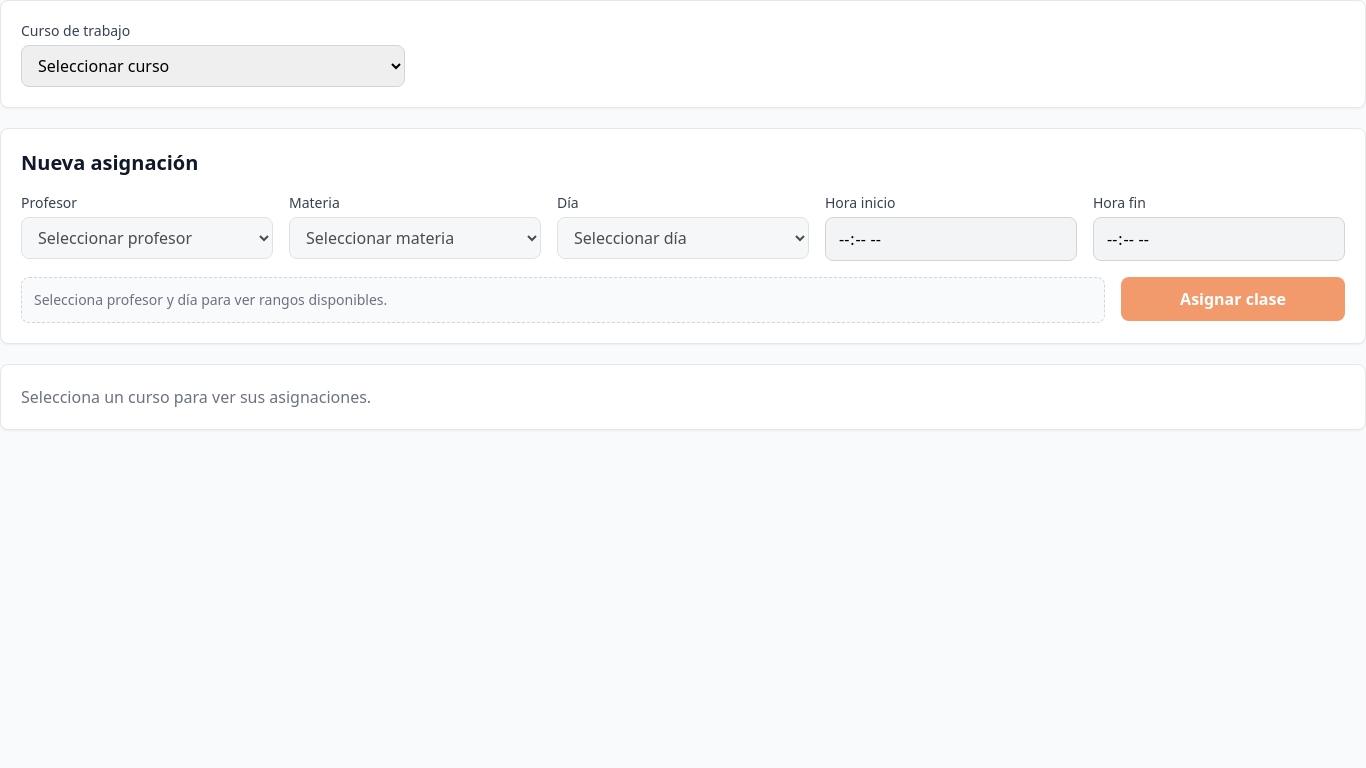
it: flujo de asignaciones académicas › consulta disponibilidad y crea una asignación con el payload actual
The width and height of the screenshot is (1366, 768).
Select "5A (Mañana)" in the dropdown below "Curso de trabajo" at [213, 66], box [21, 45, 405, 87]
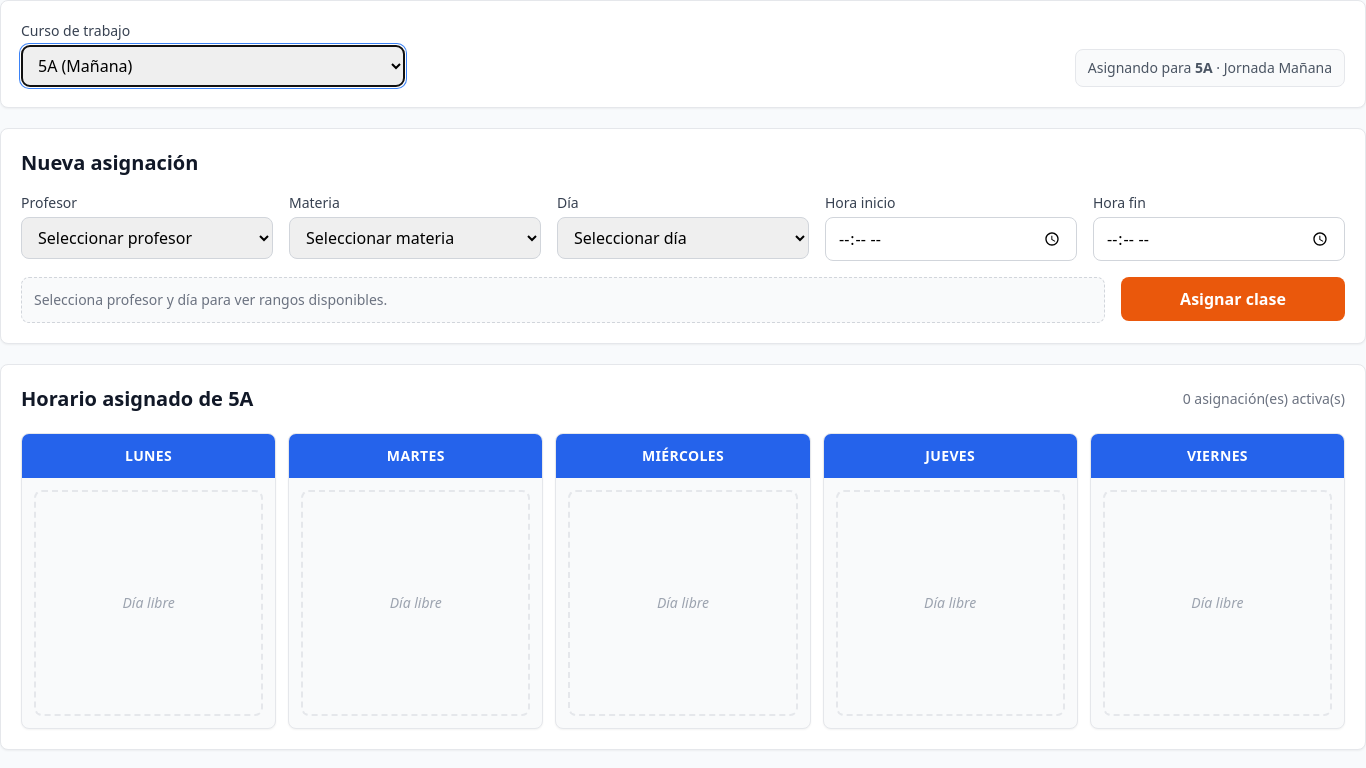
Select "ANA RUIZ" in the 2nd dropdown at [147, 238], box [21, 217, 273, 259]
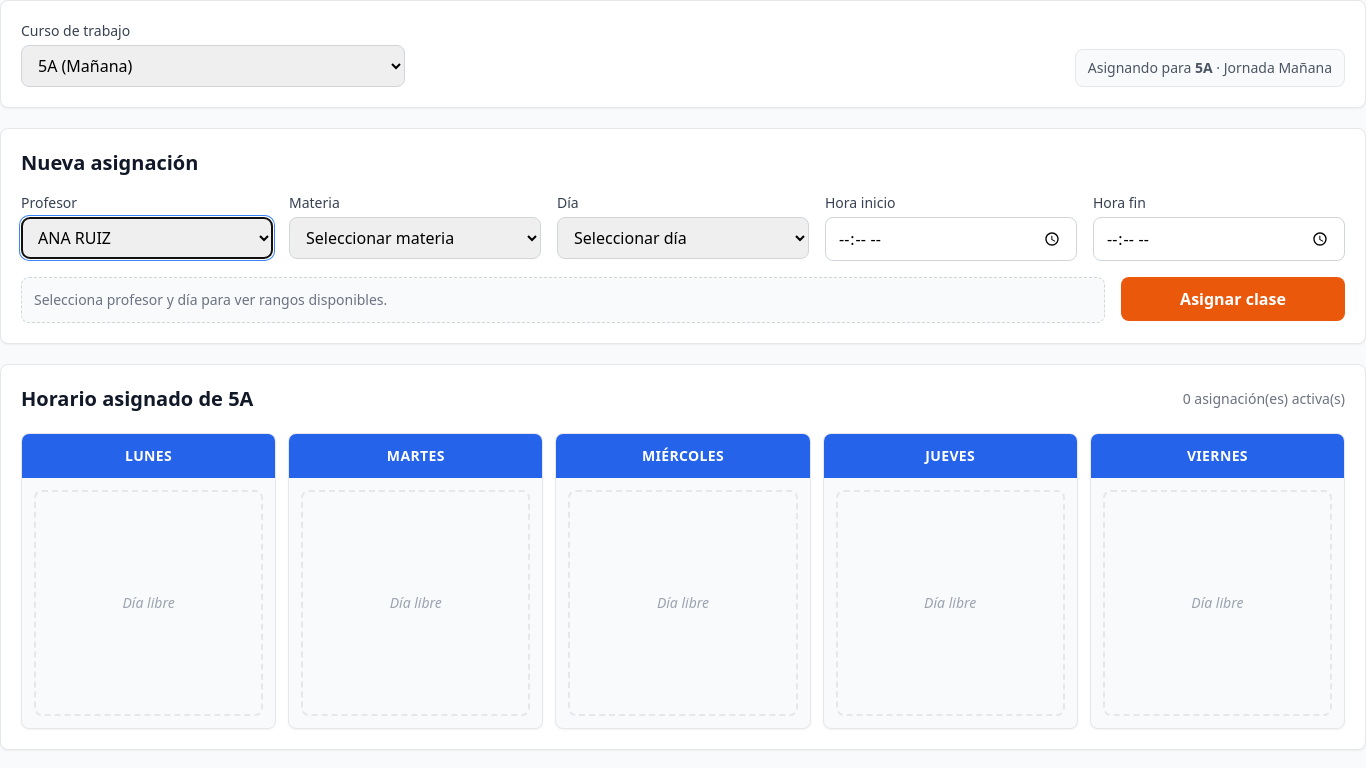
Select "MATEMÁTICAS" in the dropdown below "Materia" at [415, 238], box [289, 217, 541, 259]
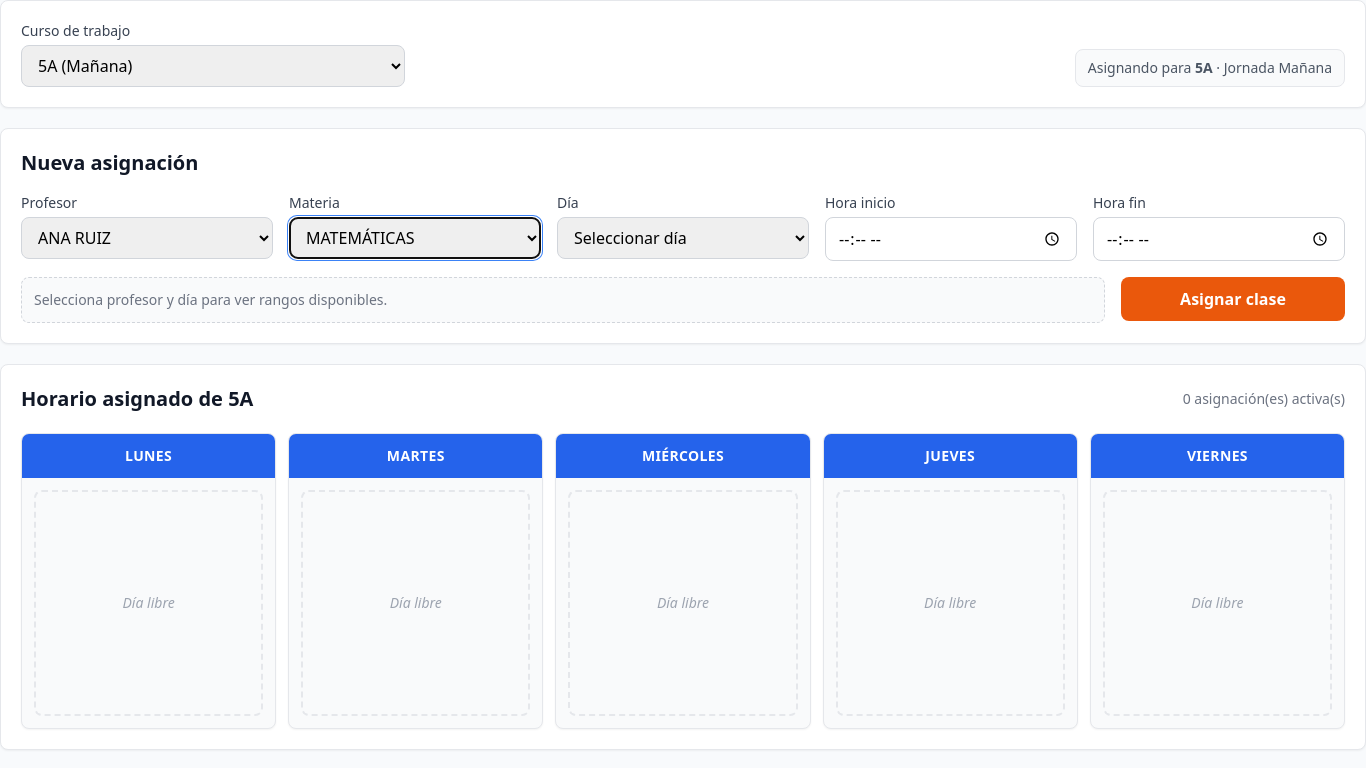
Select "Lunes" in the 4th dropdown at [683, 238], box [557, 217, 809, 259]
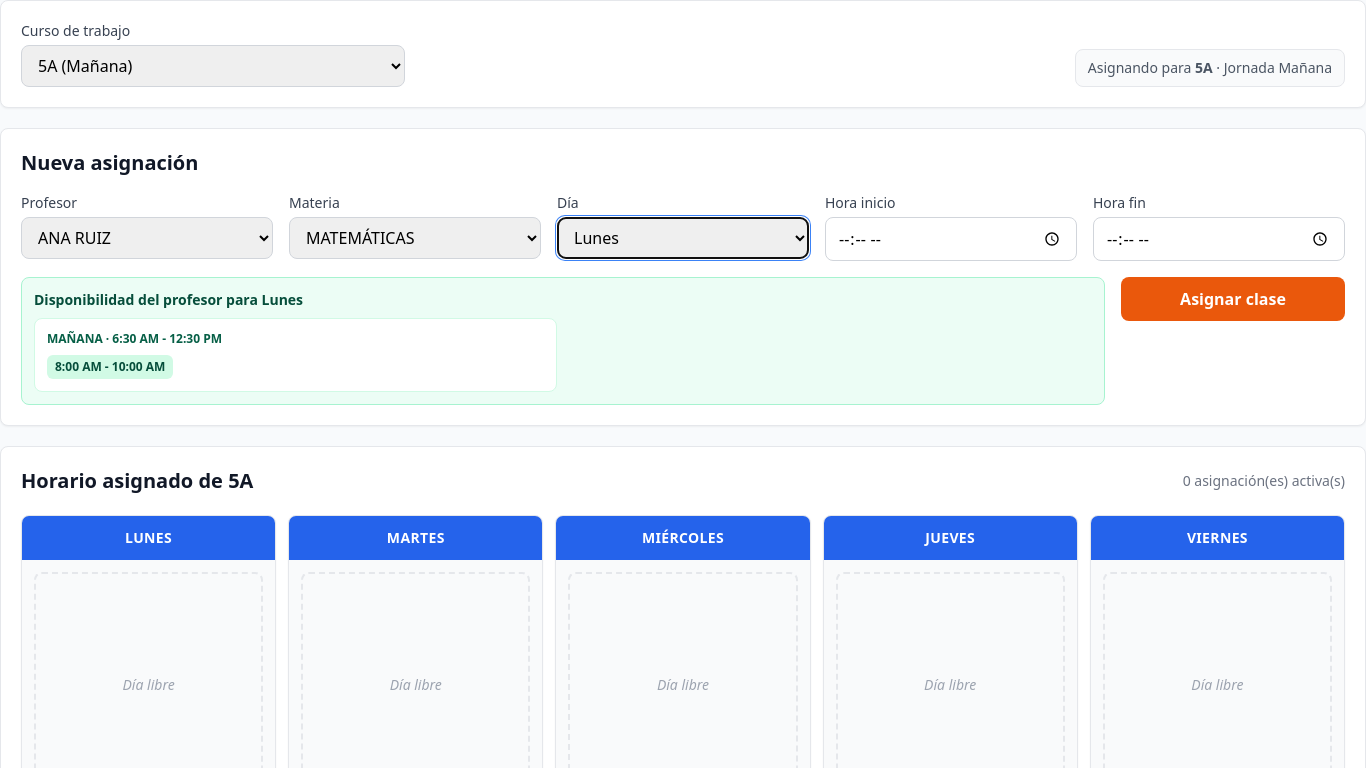
Type "08:00" into the time field below "Hora inicio" at [951, 239], box [825, 217, 1077, 261]
Type "09:00" into the time field below "Hora fin" at [1219, 239], box [1093, 217, 1345, 261]
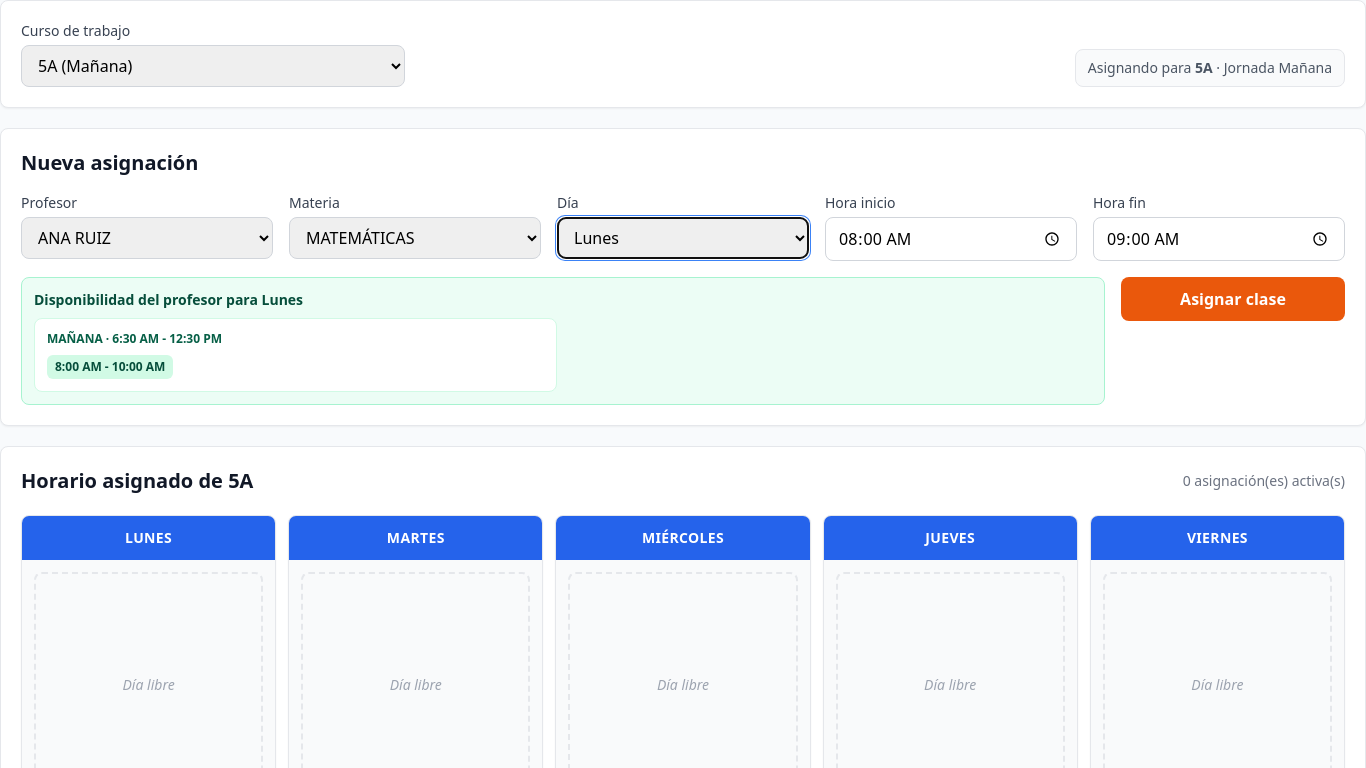
Check: the text "8:00 AM - 10:00 AM" is shown, box [47, 355, 173, 379]
Click the button "Asignar clase" at [1233, 299], box [1121, 277, 1345, 321]
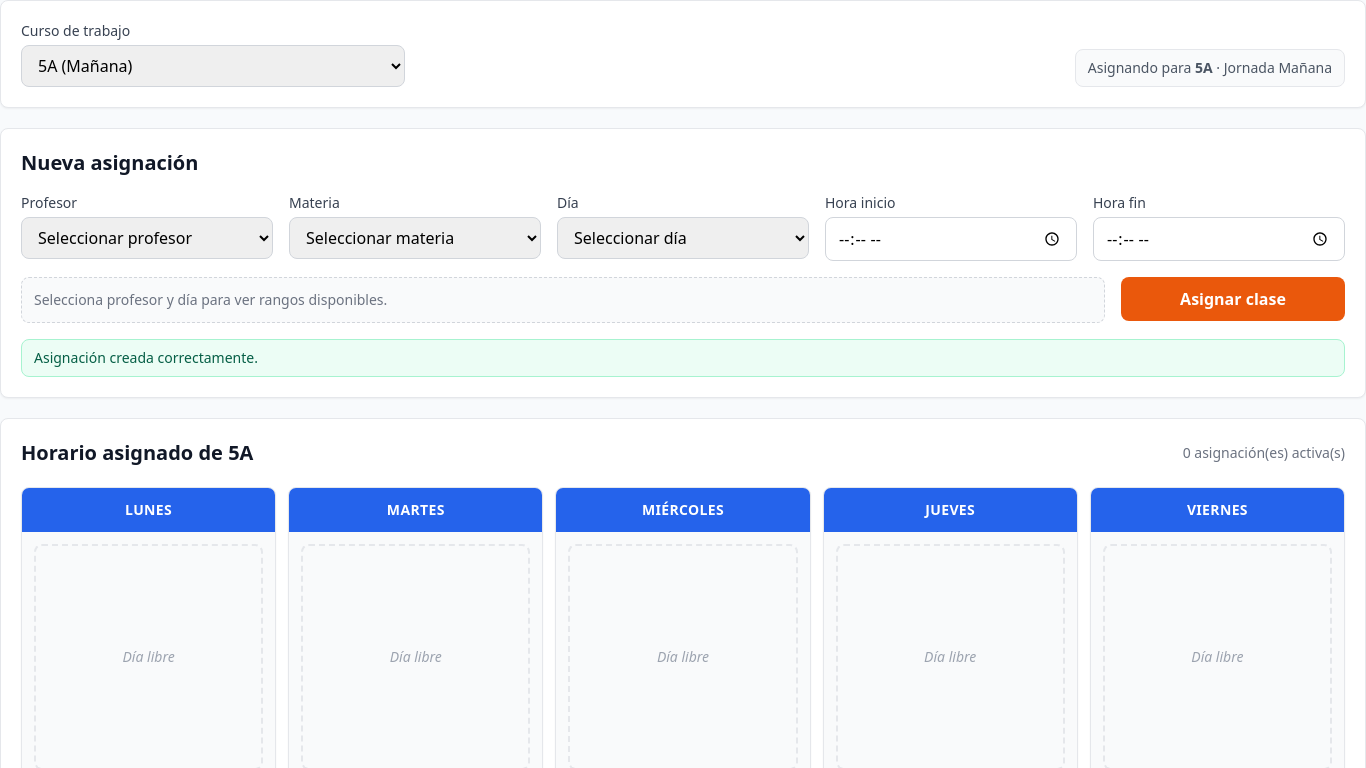
Check: the text "Asignación creada correctamente." is shown, box [21, 339, 1345, 377]
